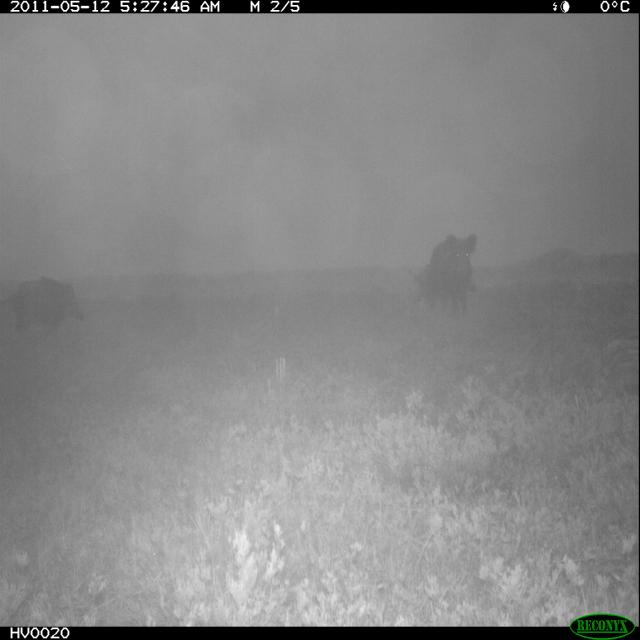boar: (389, 222, 500, 335), (0, 252, 106, 352)
